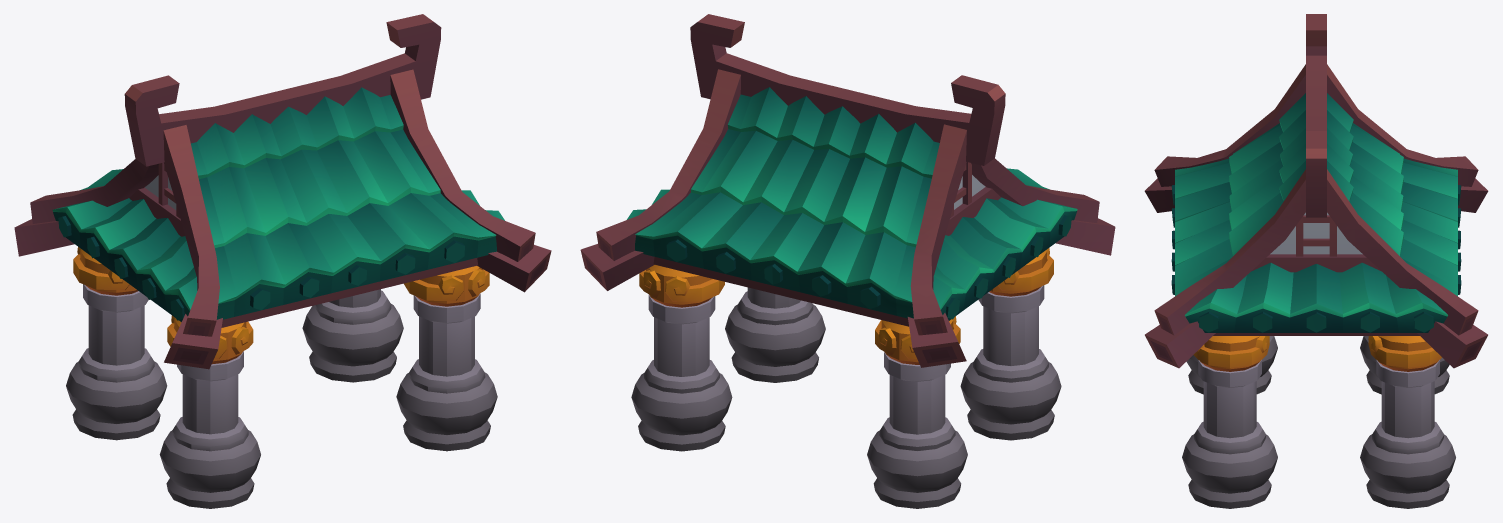
The model's file is shrine_2.glb.
The picture shows the model from 3 angles, left to right: view 1: azimuth 30°, elevation 25°; view 2: azimuth 150°, elevation 25°; view 3: azimuth 270°, elevation 25°; orthographic projection. The views are drawn at different scales.
Parts seen in each view (by area): view 1: shrine_2; view 2: shrine_2; view 3: shrine_2.
Part boxes in pixels (bbox=[...]): shrine_2: bbox=[14, 14, 551, 508]; shrine_2: bbox=[580, 14, 1115, 508]; shrine_2: bbox=[1144, 14, 1488, 508].
Size of the model in its own units: 3.67 by 3.44 by 3.01.
1 material, 1 textured.
